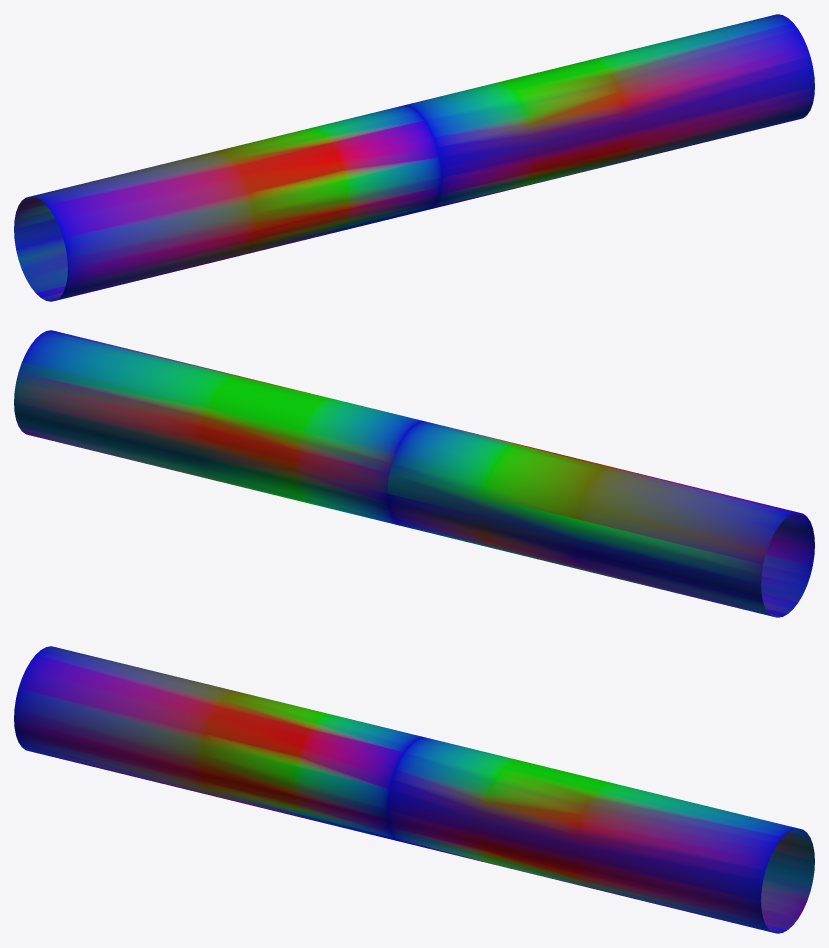
Rendered from PipeA_M_8.fbx.
3 renders of one model, top to bottom at view 1: azimuth 30°, elevation 25°; view 2: azimuth 150°, elevation 25°; view 3: azimuth 330°, elevation 25°, orthographic.
Parts seen in each view (by area): view 1: Circle.002; view 2: Circle.002; view 3: Circle.002.
Boxes of the visible parts, bbox=[...] form: Circle.002: bbox=[14, 14, 814, 301]; Circle.002: bbox=[14, 330, 814, 617]; Circle.002: bbox=[14, 646, 814, 933].
Size of what is drawn, in the model's own units: 800 by 100 by 100.
